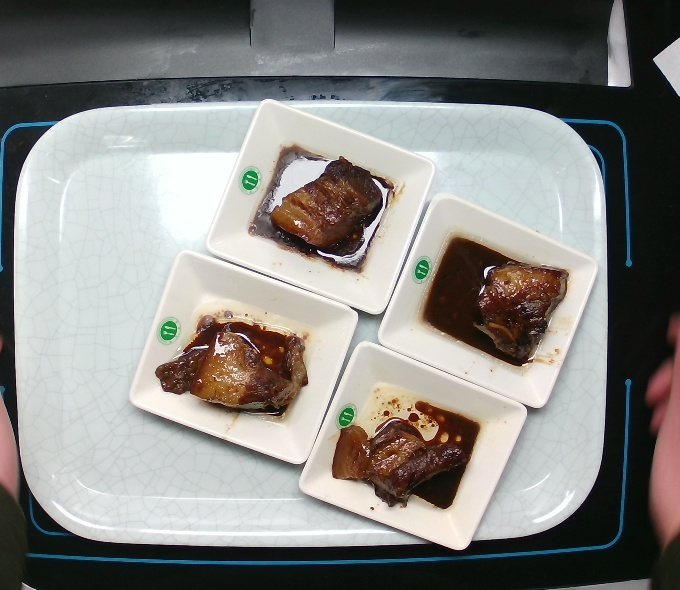wcq-DaKuaiRou: (415, 221, 583, 377), (240, 134, 409, 282), (149, 289, 327, 428), (313, 380, 484, 521)
